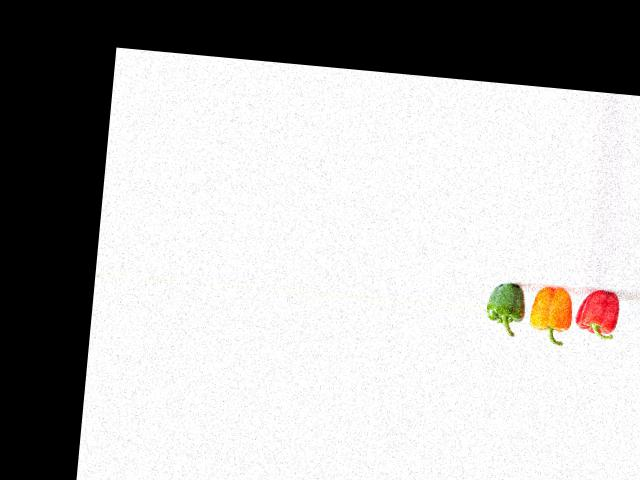bell_pepper: (572, 289, 623, 350)
